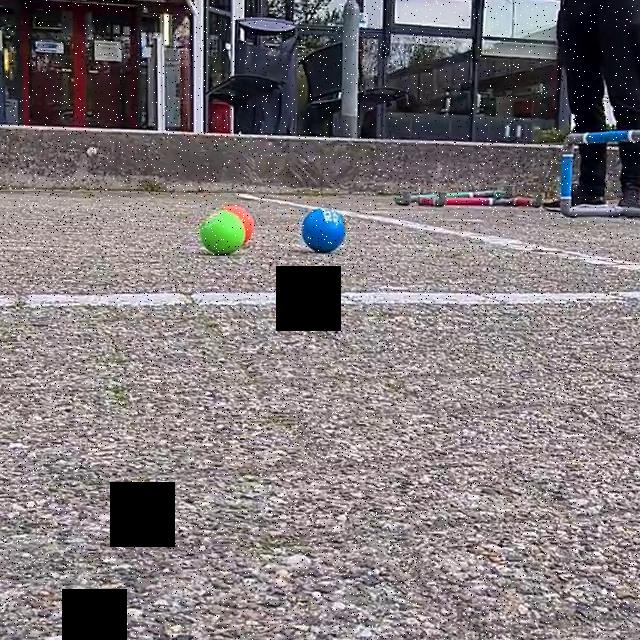ball: (300, 204, 353, 254), (198, 208, 248, 255)
